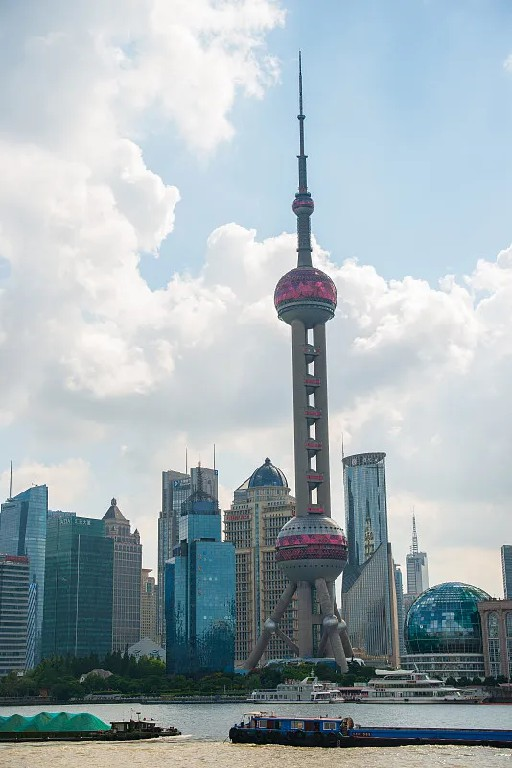Oriental: (245, 54, 353, 672)
